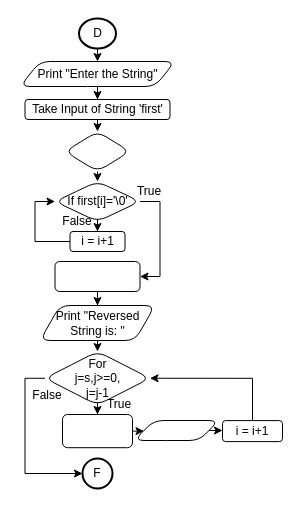
Image size: 300x506. Some labels were removed from this diagram. The shapes that lost their labels are listed below. From the top down, each one's centre as x and y in pixels, then its label:
At (x=97, y=151): "While 2".
At (x=97, y=276): "s = i, i=0".
At (x=97, y=431): "rev[i]=first[j]".
At (x=176, y=430): "Print rev[i]".
